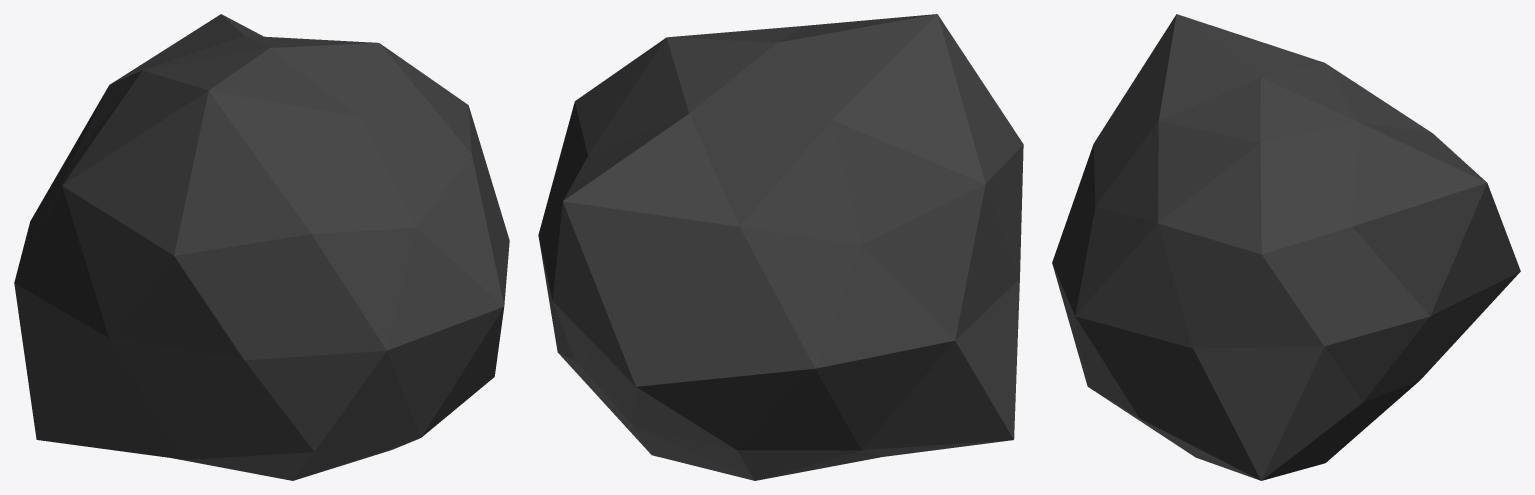
The model's file is stone.obj.
3 renders of one model, left to right at view 1: azimuth 30°, elevation 25°; view 2: azimuth 150°, elevation 25°; view 3: azimuth 270°, elevation 25°, orthographic. The views are drawn at different scales.
Parts seen in each view (by area): view 1: ICO球; view 2: ICO球; view 3: ICO球.
Boxes of the visible parts, bbox=[...] form: ICO球: bbox=[14, 14, 509, 480]; ICO球: bbox=[538, 14, 1023, 480]; ICO球: bbox=[1052, 14, 1520, 480].
Bounding box in the file's own units: 5.03 × 4.63 × 5.22.
Materials: 1 (1 with a texture image).
